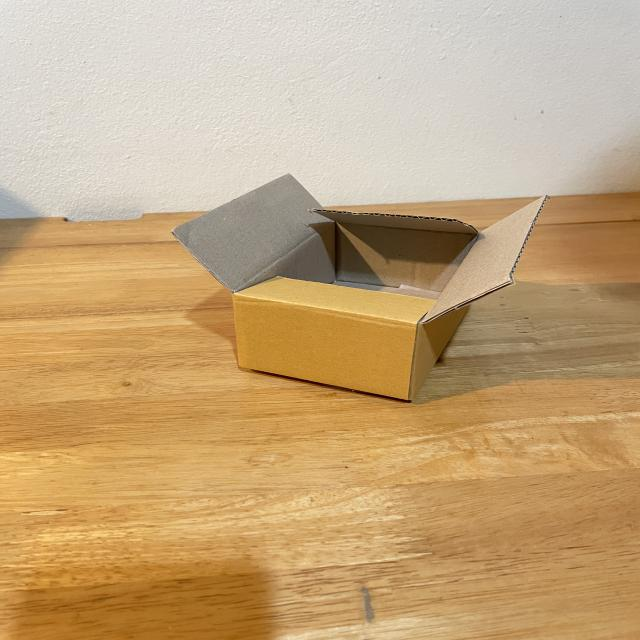box: (170, 173, 549, 403)
opened: (170, 174, 548, 327)
